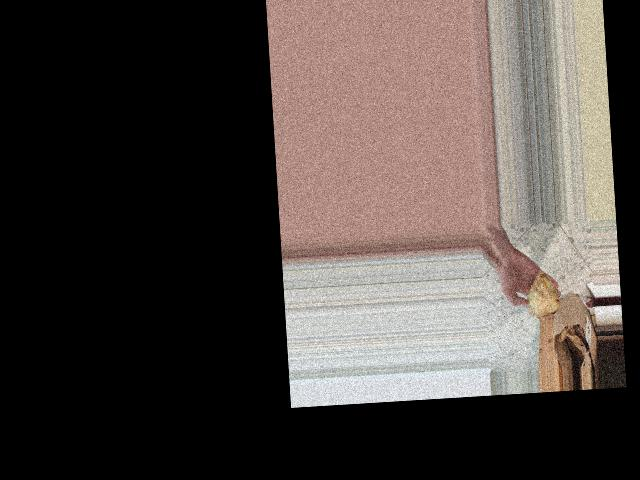onion: (523, 270, 561, 319)
